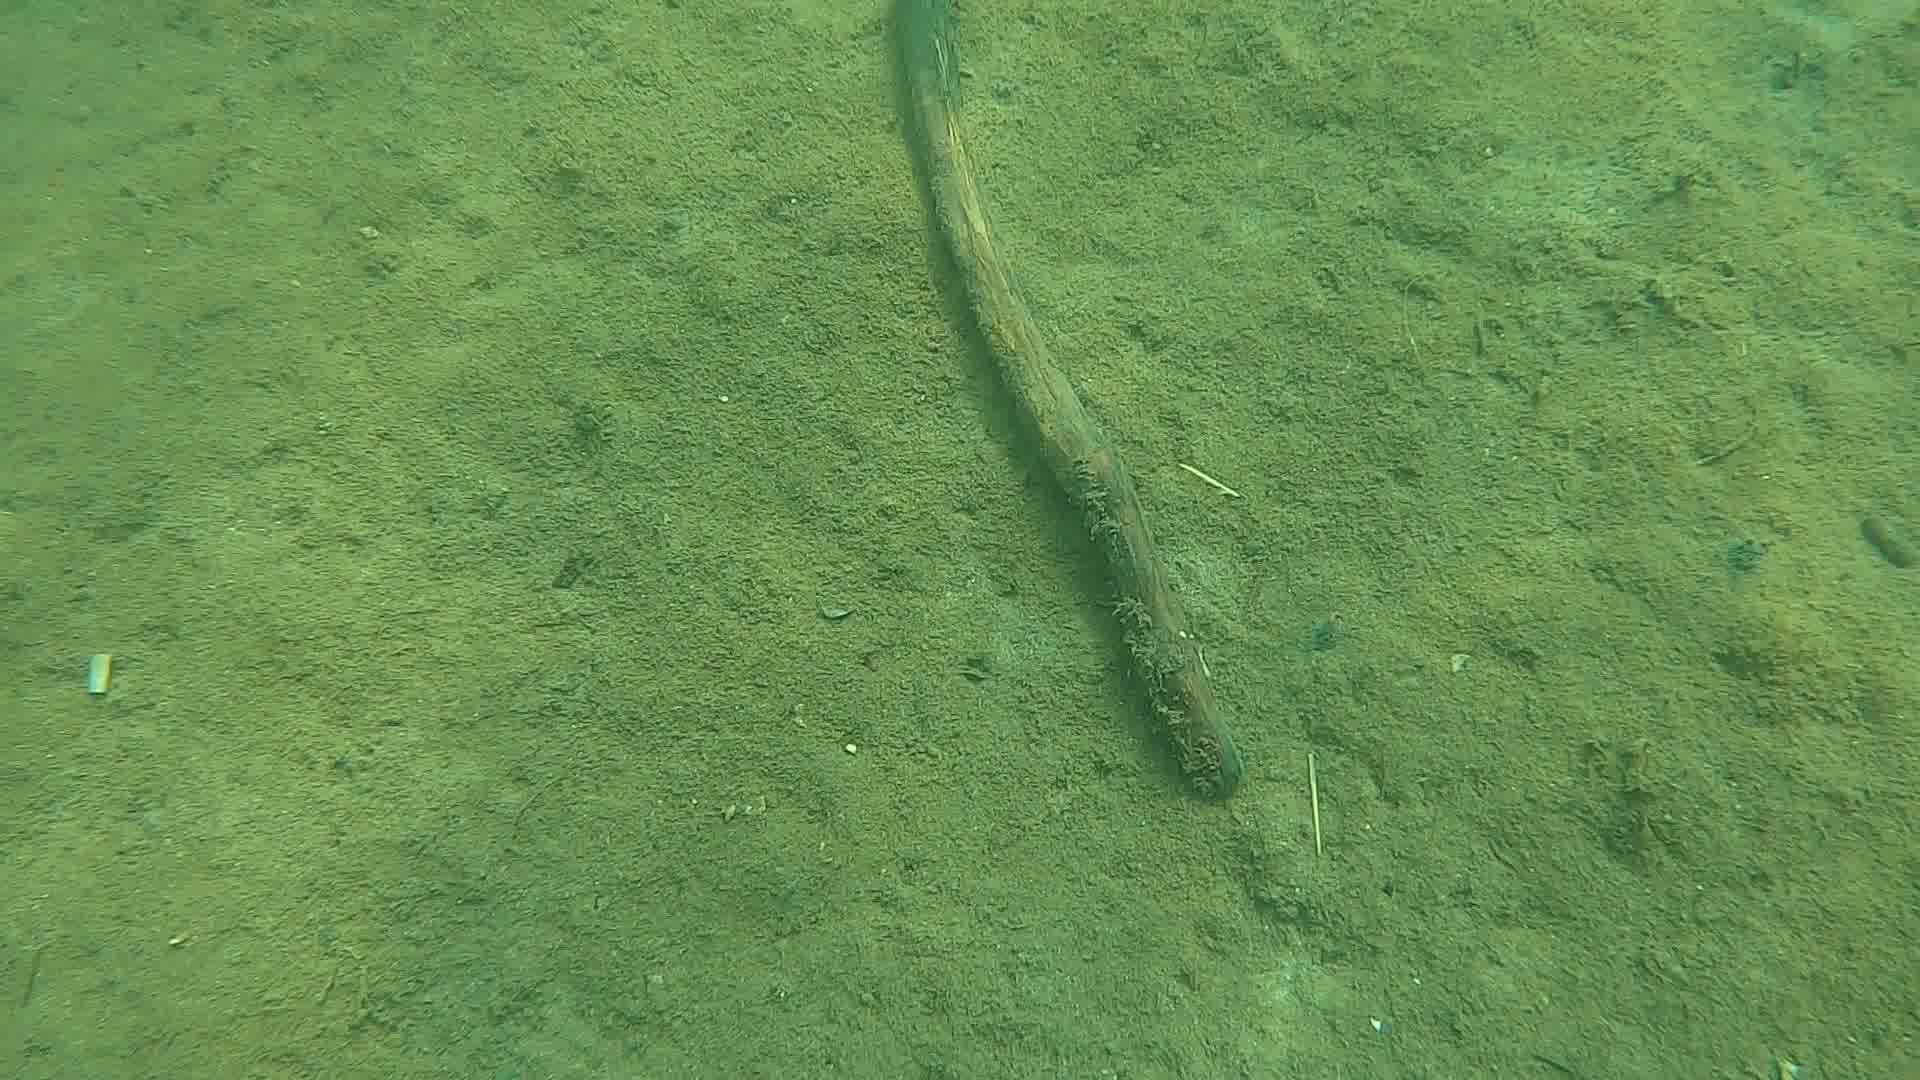wood: (884, 0, 1244, 800)
